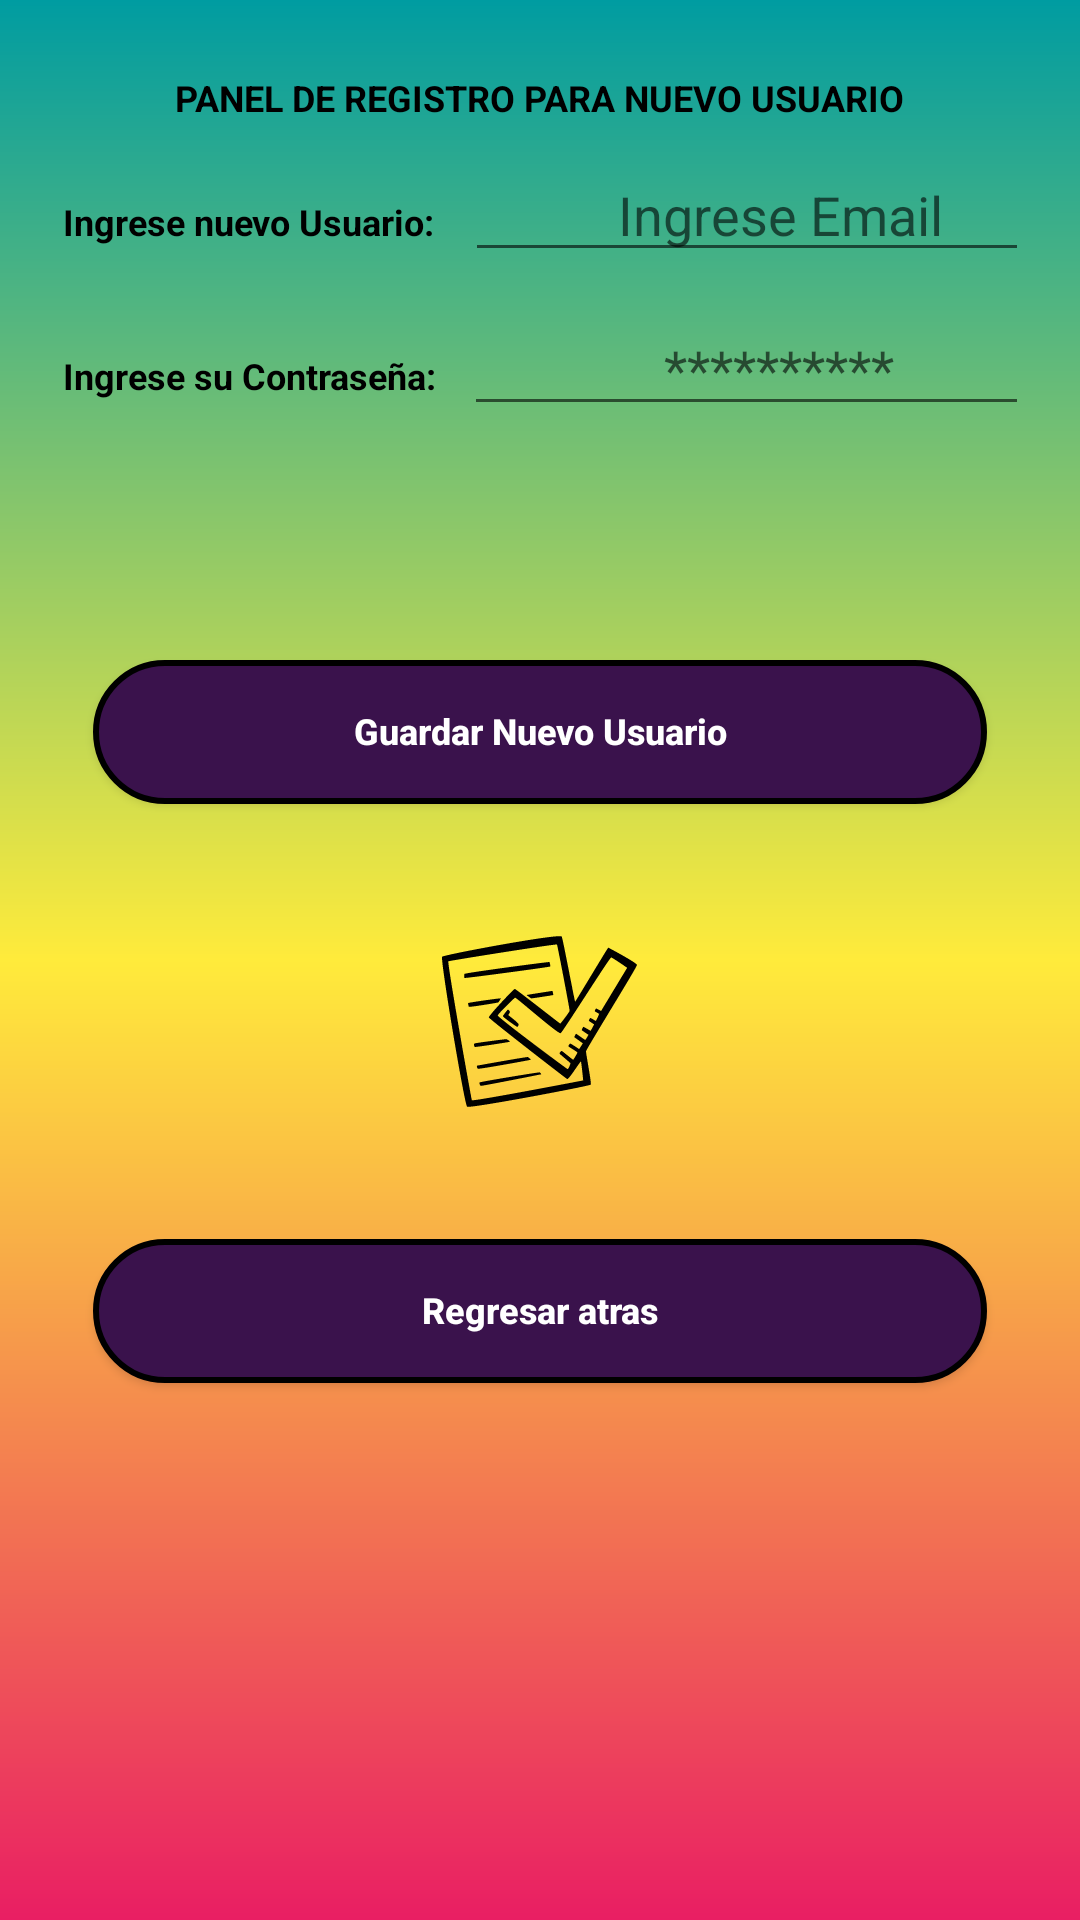

Icon click points for this 1080*1920 phone screenshot, format [x,y]:
listo: [539,1021]
